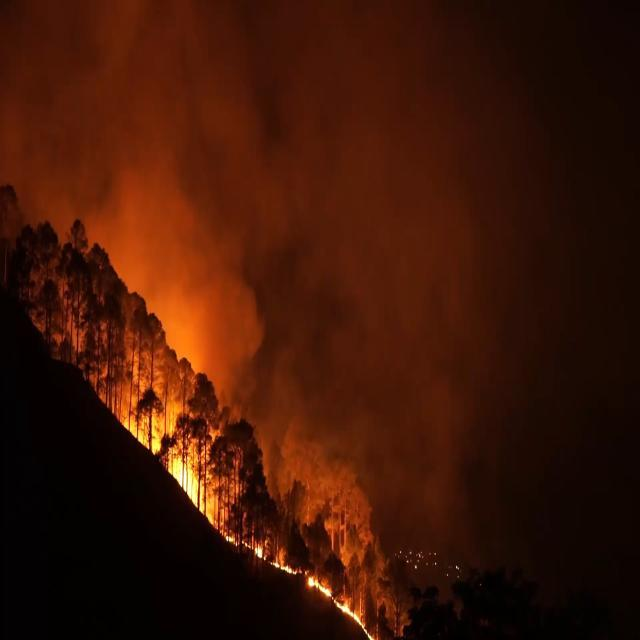Fire: (64, 286, 264, 526), (223, 530, 380, 577), (308, 578, 420, 640)
Smoke: (3, 6, 560, 356), (266, 360, 536, 526), (383, 529, 549, 575)
